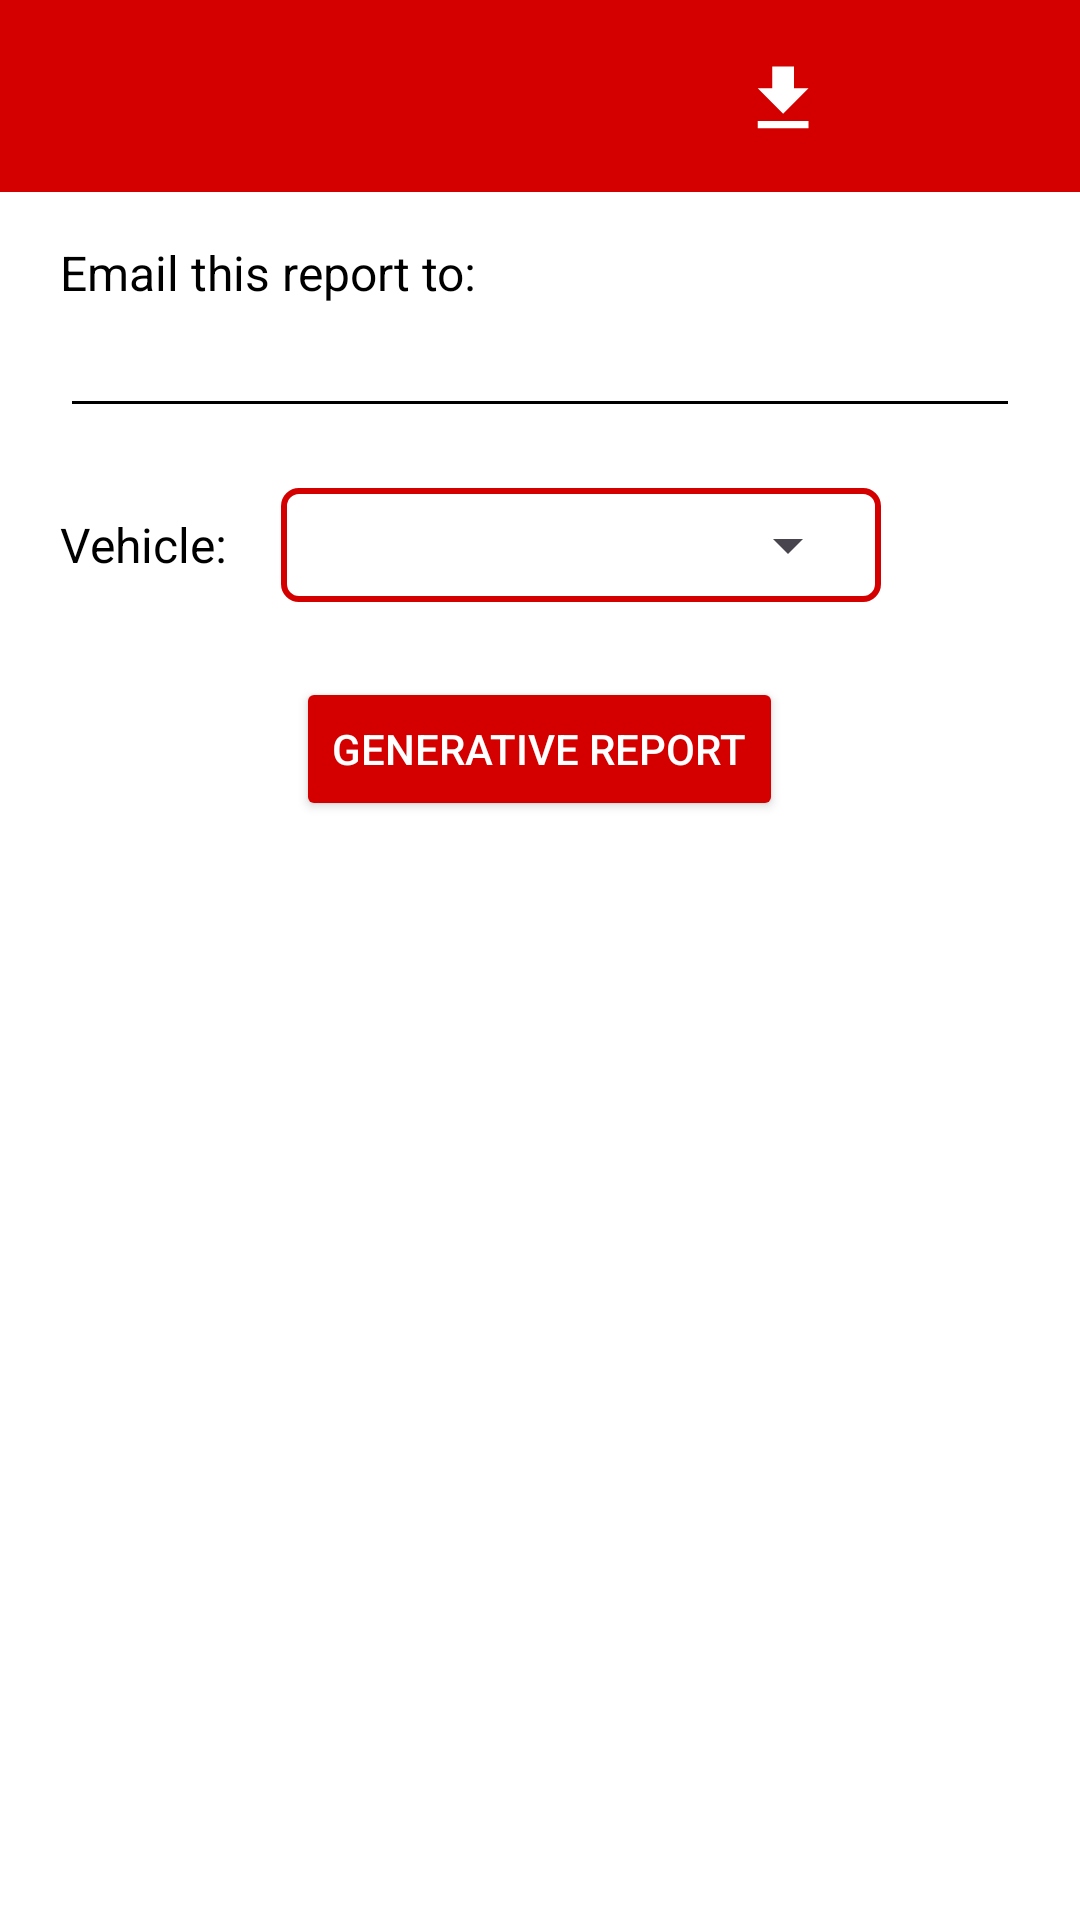

Named icons in this screenshot (1080px x 1920px) and their bounding boxes, (x1, y1, x2, y2):
download: (757, 66, 809, 129)
